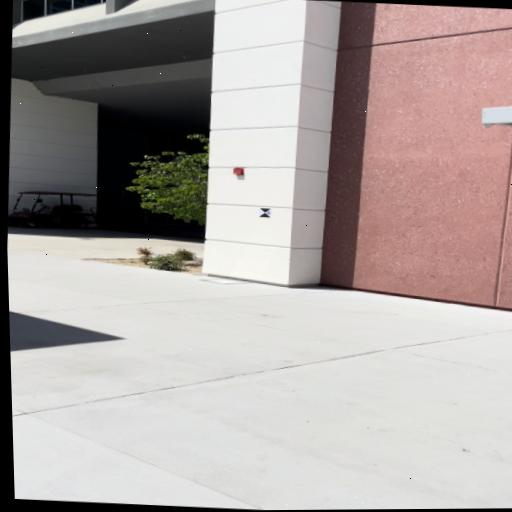target6: (258, 208, 272, 218)
